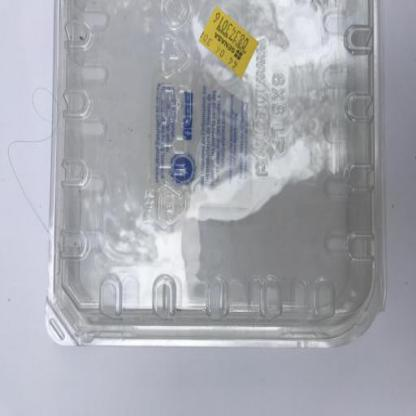trash: (46, 0, 392, 356)
